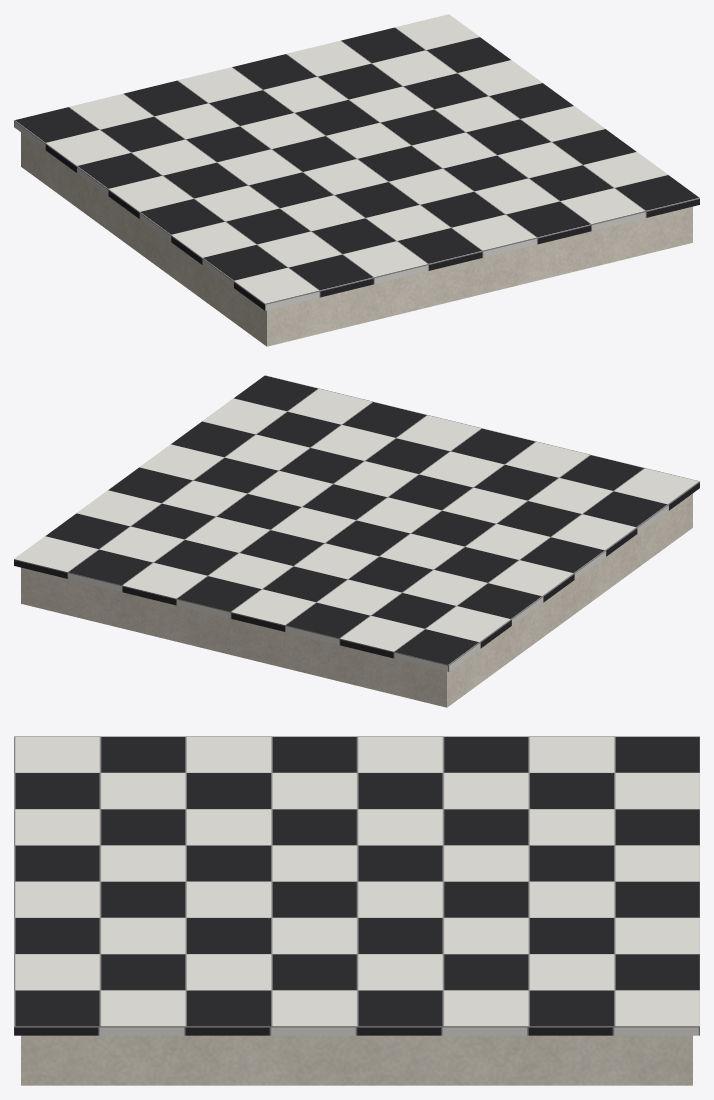
The model's file is floor_checker.glb.
3 views of the same model, one above another, from view 1: azimuth 30°, elevation 25°; view 2: azimuth 150°, elevation 25°; view 3: azimuth 270°, elevation 25° (orthographic). The views are drawn at different scales.
Parts seen in each view (by area): view 1: floor_checker_checker, floor_checker_plaster; view 2: floor_checker_checker, floor_checker_plaster; view 3: floor_checker_checker, floor_checker_plaster.
Part boxes in pixels (x1,y1,x2,y2): floor_checker_checker: (14, 14, 699, 310); floor_checker_plaster: (21, 132, 692, 346); floor_checker_checker: (14, 375, 699, 671); floor_checker_plaster: (21, 493, 692, 707); floor_checker_checker: (14, 736, 699, 1035); floor_checker_plaster: (21, 1035, 692, 1085).
Bounding box in the file's own units: 2 × 0.2 × 2.
Materials: 2 (2 with a texture image).
